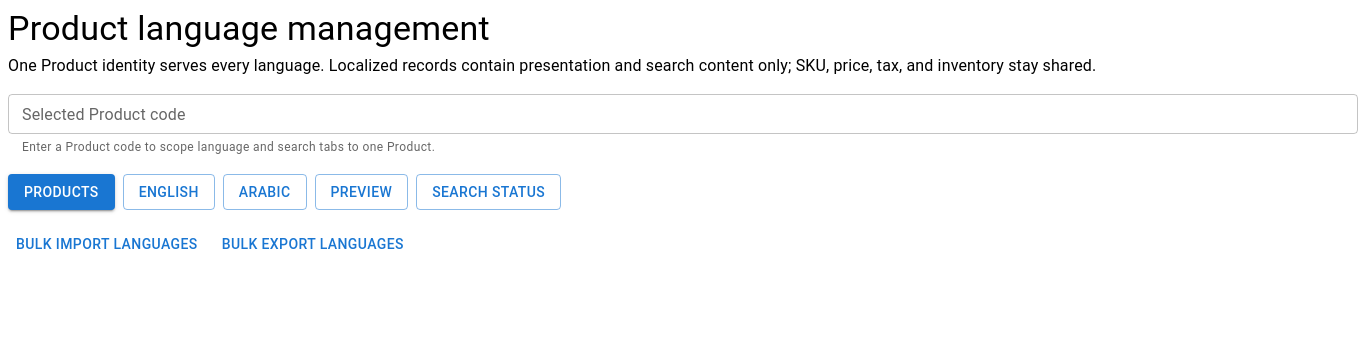
Test: Product Management localization presentation › composes Product and locale schemas without browser-owned persistence
This screenshot has width=1366, height=344.
Expected: the heading "Product language management" is shown, [8, 8, 490, 48]
Type "sampleRunningShoe" into the field labelled "Selected Product code". click: coordinates (683, 114)
box: [8, 94, 1358, 134]
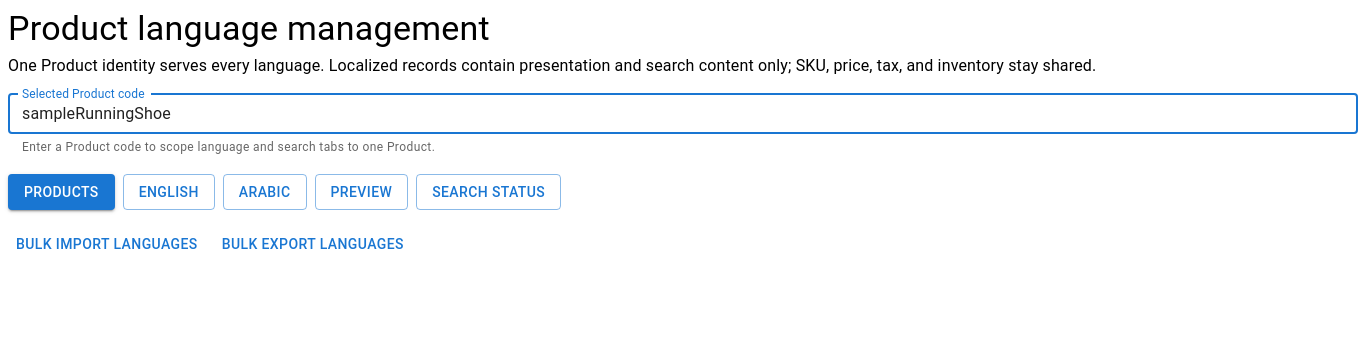
Click the button "Arabic". click: coordinates (265, 192)
box: [223, 174, 306, 210]
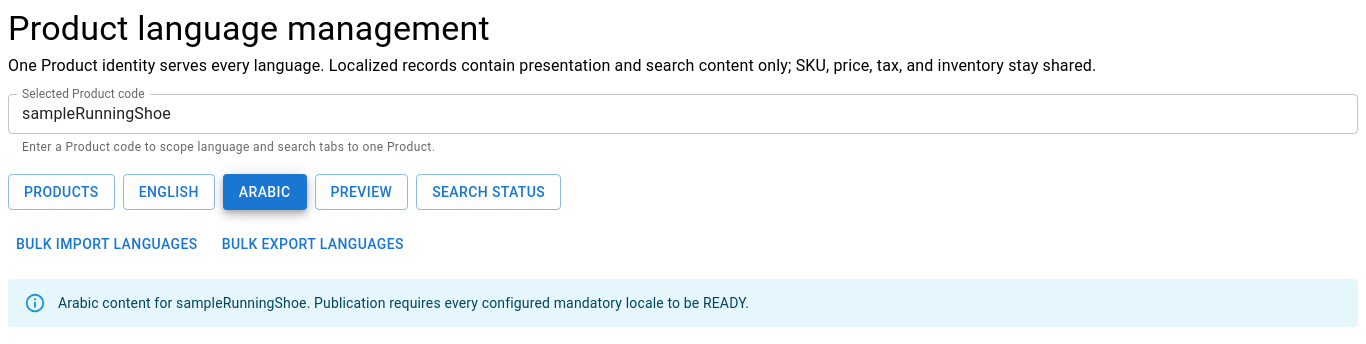
Expected: the text "SKU, price, tax, and inventory stay shared" is shown, [8, 56, 1096, 75]
Expected: the text "Arabic content for sampleRunningShoe" is shown, [58, 295, 749, 311]
Click the button "Preview". click: coordinates (361, 192)
box: [314, 174, 408, 210]
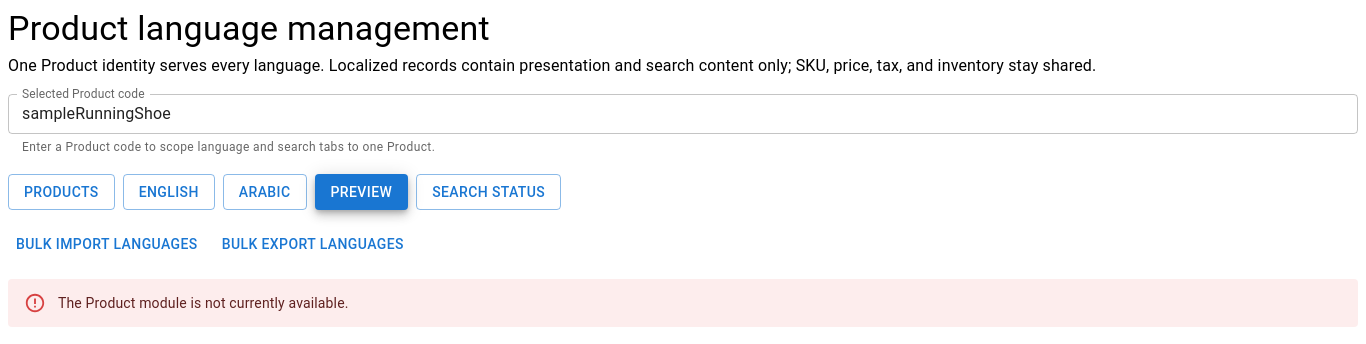
Expected: the text "The Product module is not currently available." is shown, [58, 295, 349, 311]
